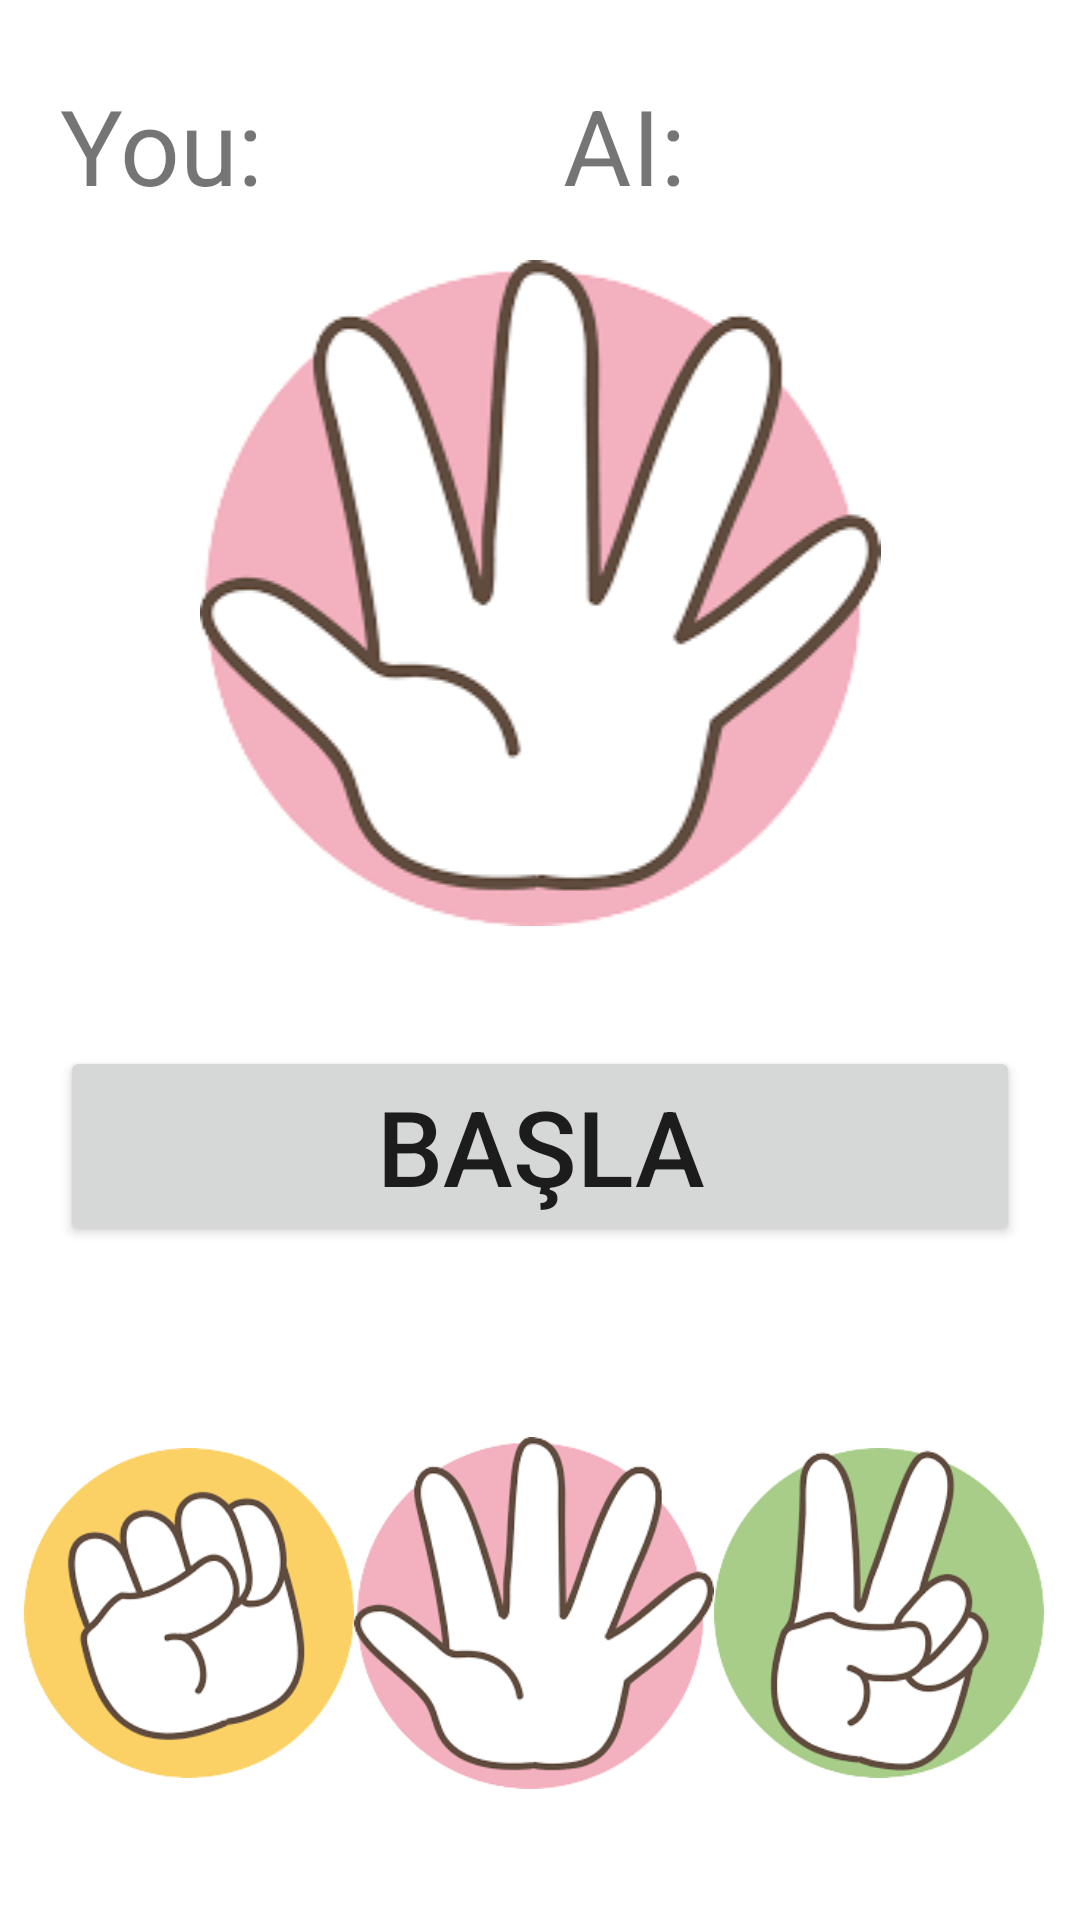

Icon click points for this 1080*1920 phone screenshot, format (x,y):
makas: (879,1613)
tas: (189,1613)
